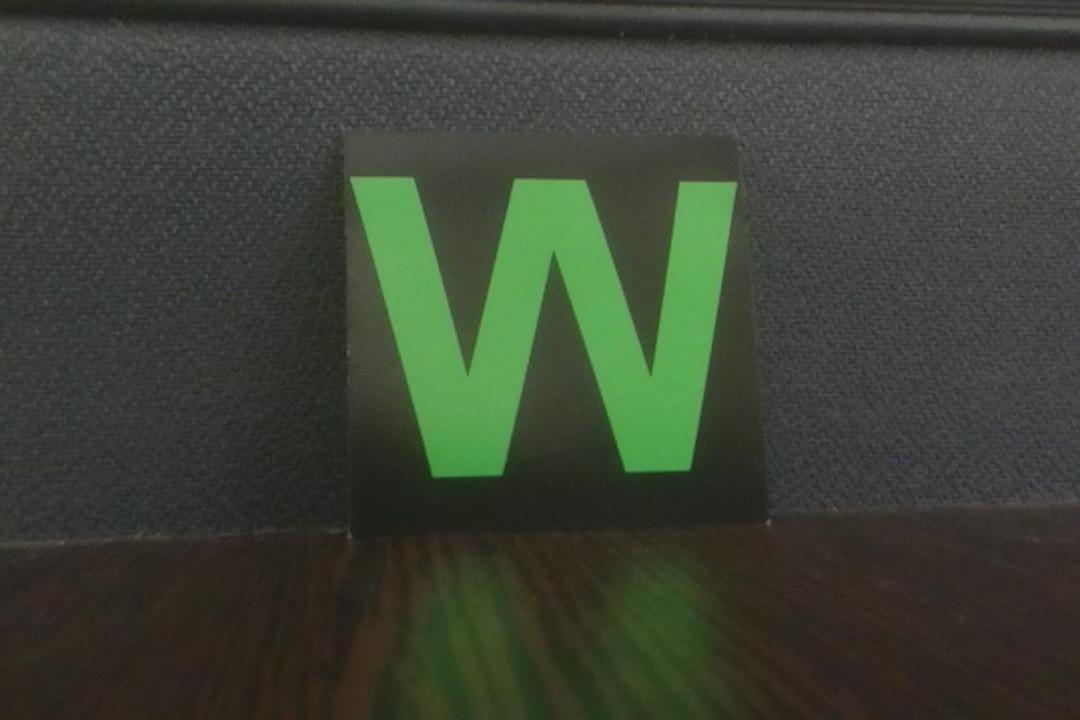w: (339, 125, 768, 525)
